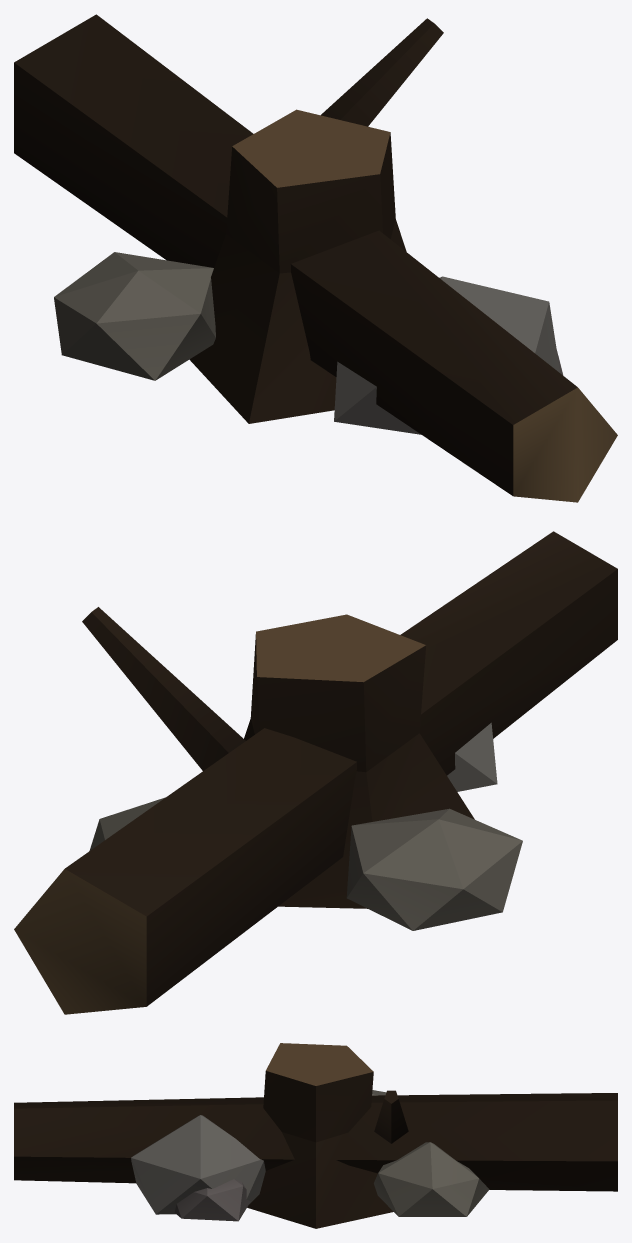
Rendered from debris_grass_lod1.glb.
The picture shows the model from 3 angles, top to bottom: view 1: azimuth 30°, elevation 25°; view 2: azimuth 150°, elevation 25°; view 3: azimuth 270°, elevation 25°; orthographic projection. The views are drawn at different scales.
Parts seen in each view (by area): view 1: v1, v2, v0; view 2: v1, v2, v0; view 3: v1, v2, v0.
Boxes of the visible parts, x1,y1,x2,y2 form: v1: [14, 14, 617, 502]; v2: [189, 109, 406, 423]; v0: [54, 252, 563, 434]; v1: [14, 531, 617, 1014]; v2: [244, 614, 474, 908]; v0: [89, 722, 522, 930]; v1: [14, 1090, 617, 1191]; v2: [247, 1043, 393, 1228]; v0: [131, 1090, 489, 1221].
Size of the model in its own units: 0.3811 by 0.2282 by 0.8.
